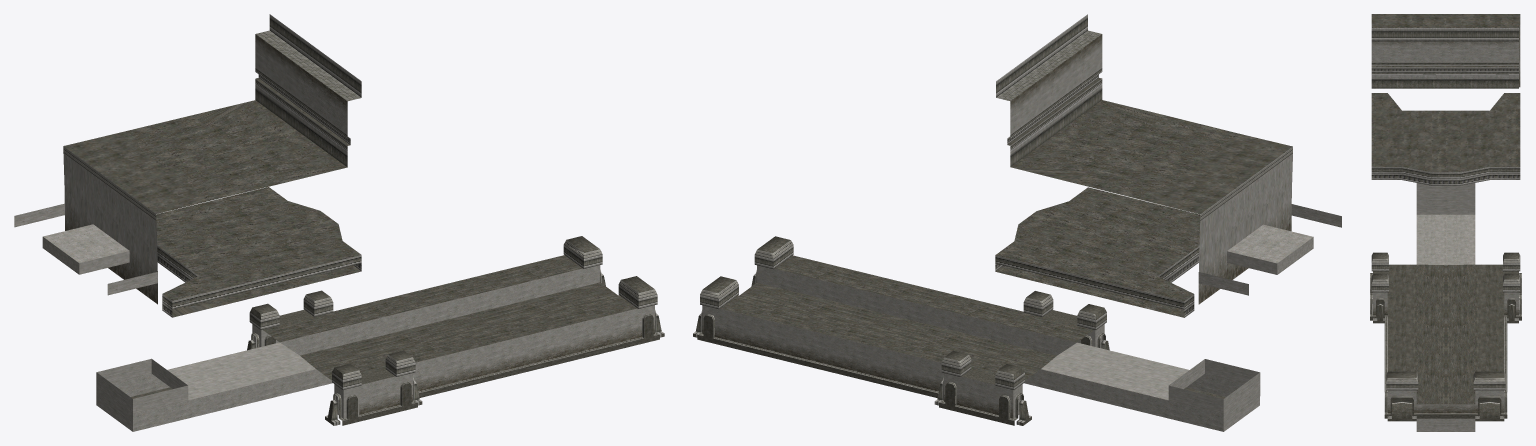
Rendered from DWARF_PALACE_MAINHALL_BACKWALLC.fbx.
The picture shows the model from 3 angles, left to right: view 1: azimuth 30°, elevation 25°; view 2: azimuth 150°, elevation 25°; view 3: azimuth 270°, elevation 25°; orthographic projection. The views are drawn at different scales.
Parts seen in each view (by area): view 1: DWARF_PALACE_MAINHALL_BACKWALLC; view 2: DWARF_PALACE_MAINHALL_BACKWALLC; view 3: DWARF_PALACE_MAINHALL_BACKWALLC.
Part boxes in pixels (bbox=[...]): DWARF_PALACE_MAINHALL_BACKWALLC: bbox=[14, 14, 664, 431]; DWARF_PALACE_MAINHALL_BACKWALLC: bbox=[693, 14, 1341, 431]; DWARF_PALACE_MAINHALL_BACKWALLC: bbox=[1370, 14, 1521, 431].
Size of the model in its own units: 358999 by 215000 by 104000.
8 materials, 8 textured.
